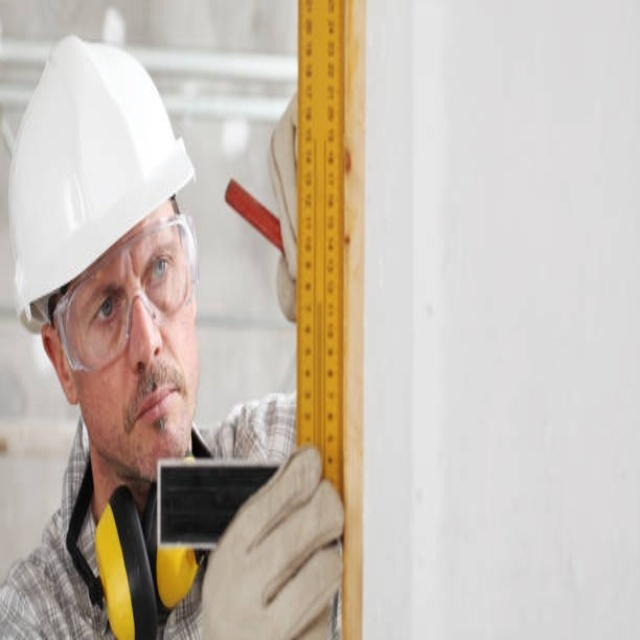Gafas: (52, 212, 199, 379)
Guantes: (195, 443, 344, 640), (268, 89, 300, 319)
Sin_mascara: (117, 366, 187, 442)
